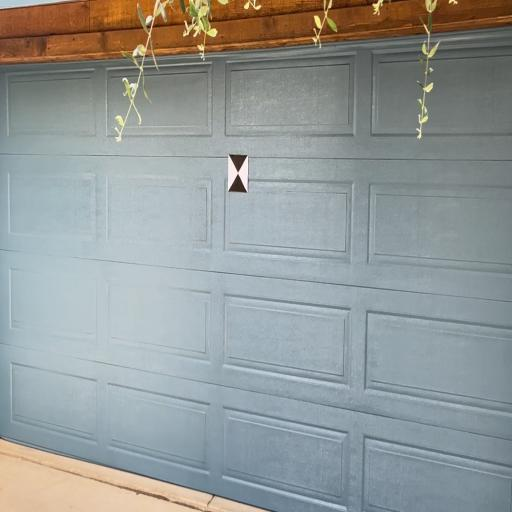target: (228, 155, 249, 193)
